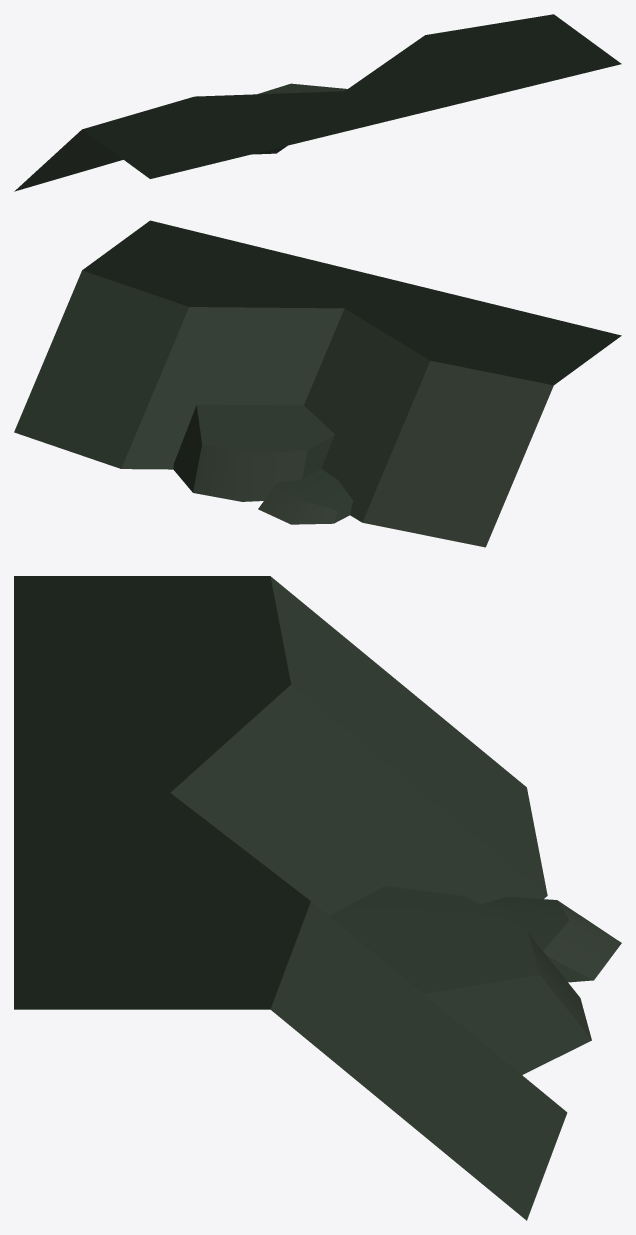
Rendered from SF_Env_River_Straight_02.glb.
3 views of the same model, one above another, from view 1: azimuth 30°, elevation 25°; view 2: azimuth 150°, elevation 25°; view 3: azimuth 270°, elevation 25° (orthographic). The views are drawn at different scales.
Parts seen in each view (by area): view 1: SF_Env_River_Straight_02; view 2: SF_Env_River_Straight_02; view 3: SF_Env_River_Straight_02.
Boxes of the visible parts, bbox=[...] form: SF_Env_River_Straight_02: bbox=[14, 14, 621, 191]; SF_Env_River_Straight_02: bbox=[14, 220, 621, 547]; SF_Env_River_Straight_02: bbox=[14, 576, 621, 1220].
Size of the model in its own units: 0.1 by 0.0227 by 0.0593.
1 material, 1 textured.
